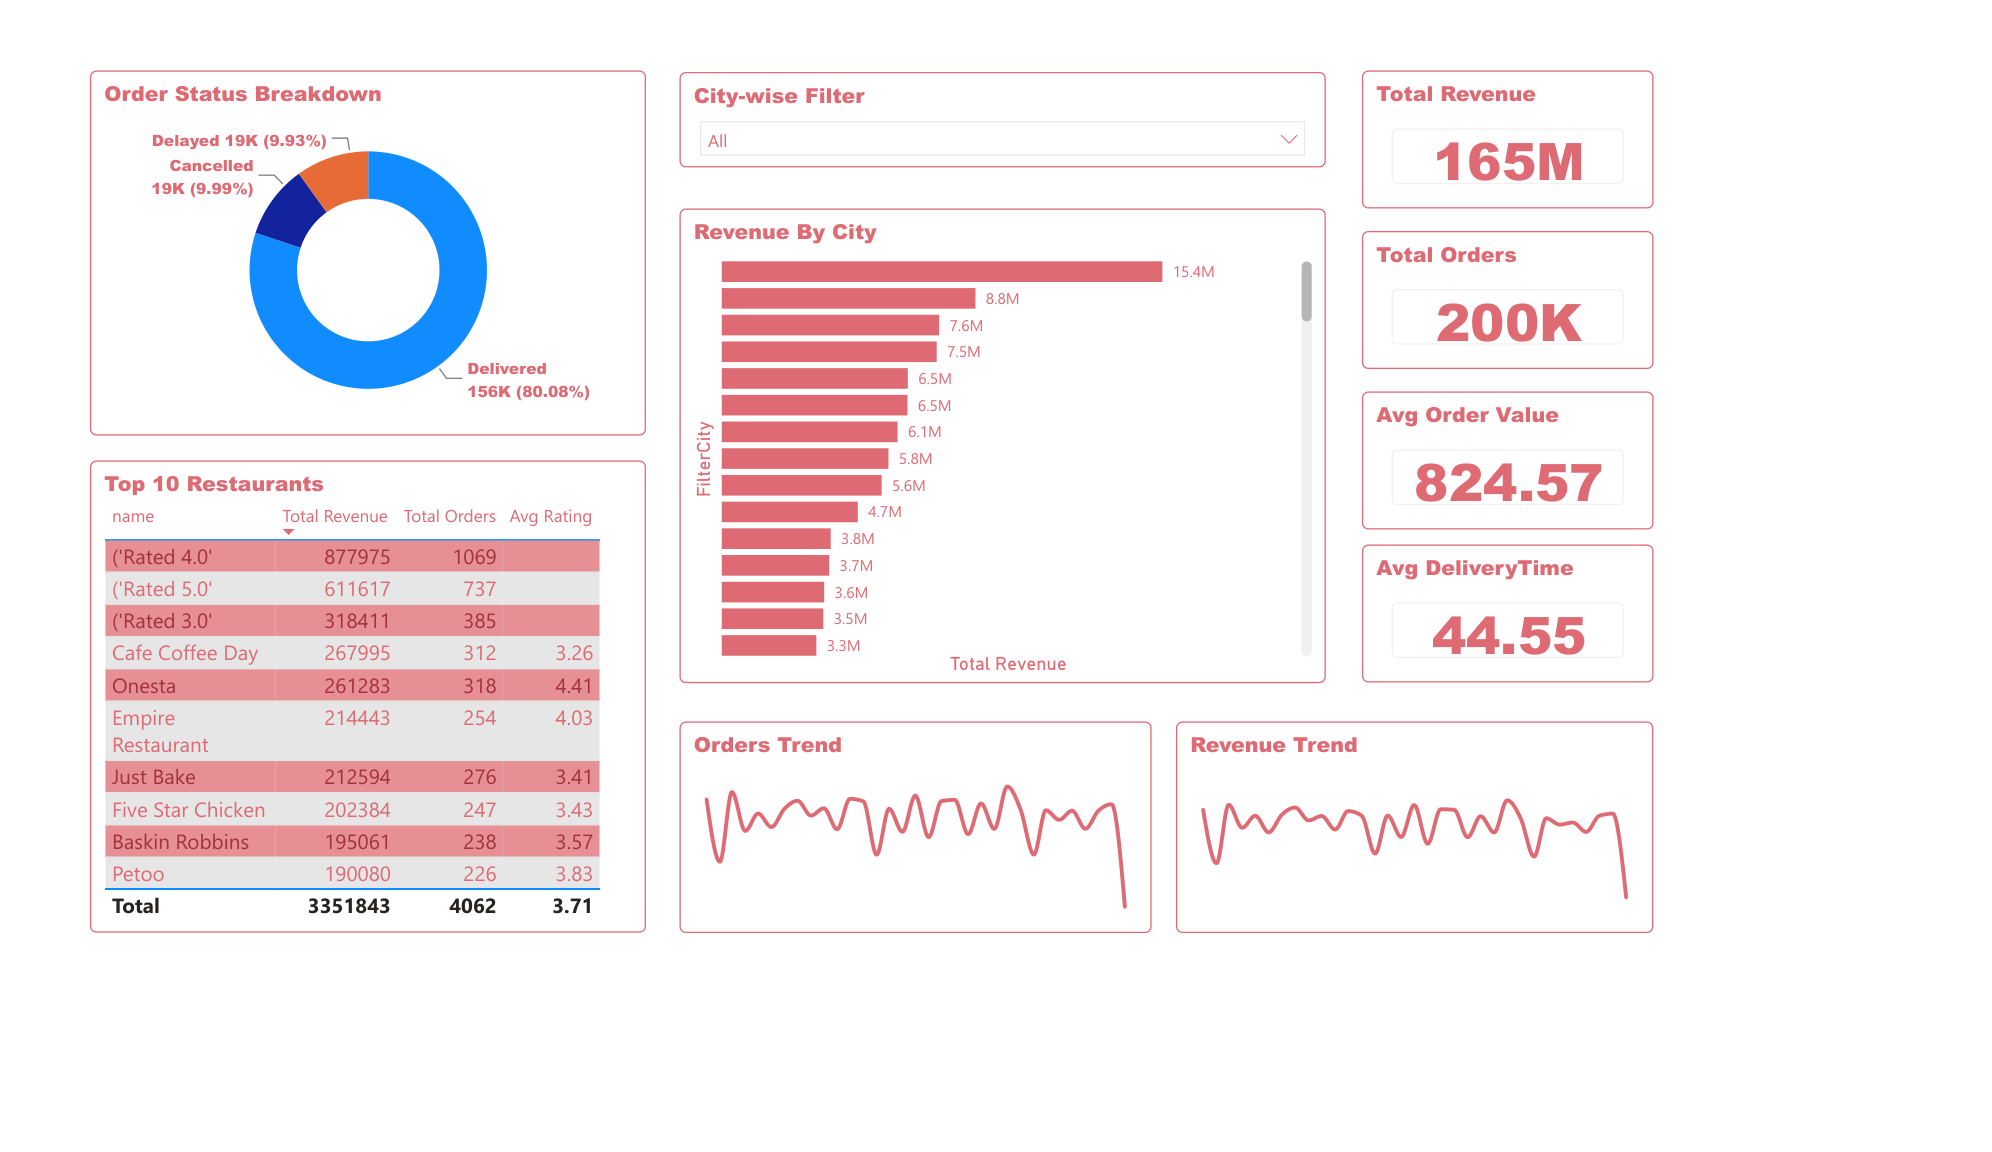

The dashboard page shown, as its layout file describes it:
{"tool":"powerbi","page":{"name":"Executive Overview","canvas":[1280,720],"ordinal":0},"visuals":[{"type":"cardVisual","title":"Total Revenue","fields":{"Data":["Orders.Total Revenue"]},"box":[1027.3,26.8,226.1,107.4],"z":0},{"type":"cardVisual","title":"Total Orders","fields":{"Data":["Orders.Total Orders"]},"box":[1027.3,151.2,226.1,107.4],"z":1000},{"type":"cardVisual","title":"Avg Order Value","fields":{"Data":["Orders.Avg Order Value"]},"box":[1027.3,275.6,226.1,107.4],"z":2000},{"type":"cardVisual","title":"Avg DeliveryTime","fields":{"Data":["Orders.Avg Delivery Time","Orders.Avg Delivery Time"]},"box":[1027.3,394.3,226.1,107.4],"z":3000},{"type":"lineChart","title":"Revenue Trend","fields":{"Y":["Orders.Total Revenue"],"Category":["DateTable.Date.Variation.Date Hierarchy.Year","DateTable.Date.Variation.Date Hierarchy.Month"]},"box":[883.8,531.2,370,163.8],"z":4000},{"type":"lineChart","title":"Orders Trend","fields":{"Y":["Orders.Total Orders"],"Category":["DateTable.Date.Variation.Date Hierarchy.Year","DateTable.Date.Variation.Date Hierarchy.Month"]},"box":[498.8,531.4,366.3,164],"z":5000},{"type":"barChart","title":"Revenue By City","fields":{"Category":["Customers.FilterCity"],"Y":["Orders.Total Revenue"]},"box":[498.8,133.8,501.2,367.5],"z":6000},{"type":"tableEx","title":"Top 10 Restaurants","fields":{"Values":["Restaurants.name","Orders.Total Revenue","Orders.Total Orders","Orders.Avg Rating"]},"box":[41.9,329.1,431.4,366.3],"z":7000},{"type":"donutChart","title":"Order Status Breakdown","fields":{"Category":["Orders.OrderStatus"],"Y":["Orders.Total Orders"]},"box":[41.4,27.1,431.4,282.9],"z":8000},{"type":"slicer","title":"City-wise Filter","fields":{"Values":["Customers.FilterCity"]},"box":[498.8,27.5,501.2,73.8],"z":9000}]}

Visuals, with their boxes in screenshot pixels (x1, y1, x2, y2), scaled from the page's 1280x720 canvas onto the 1992x1152 screenshot:
"Total Revenue" cardVisual: bbox(1599, 43, 1951, 215)
"Total Orders" cardVisual: bbox(1599, 242, 1951, 414)
"Avg Order Value" cardVisual: bbox(1599, 441, 1951, 613)
"Avg DeliveryTime" cardVisual: bbox(1599, 631, 1951, 803)
"Revenue Trend" lineChart: bbox(1375, 850, 1951, 1112)
"Orders Trend" lineChart: bbox(776, 850, 1346, 1113)
"Revenue By City" barChart: bbox(776, 214, 1556, 802)
"Top 10 Restaurants" tableEx: bbox(65, 527, 737, 1113)
"Order Status Breakdown" donutChart: bbox(64, 43, 736, 496)
"City-wise Filter" slicer: bbox(776, 44, 1556, 162)
